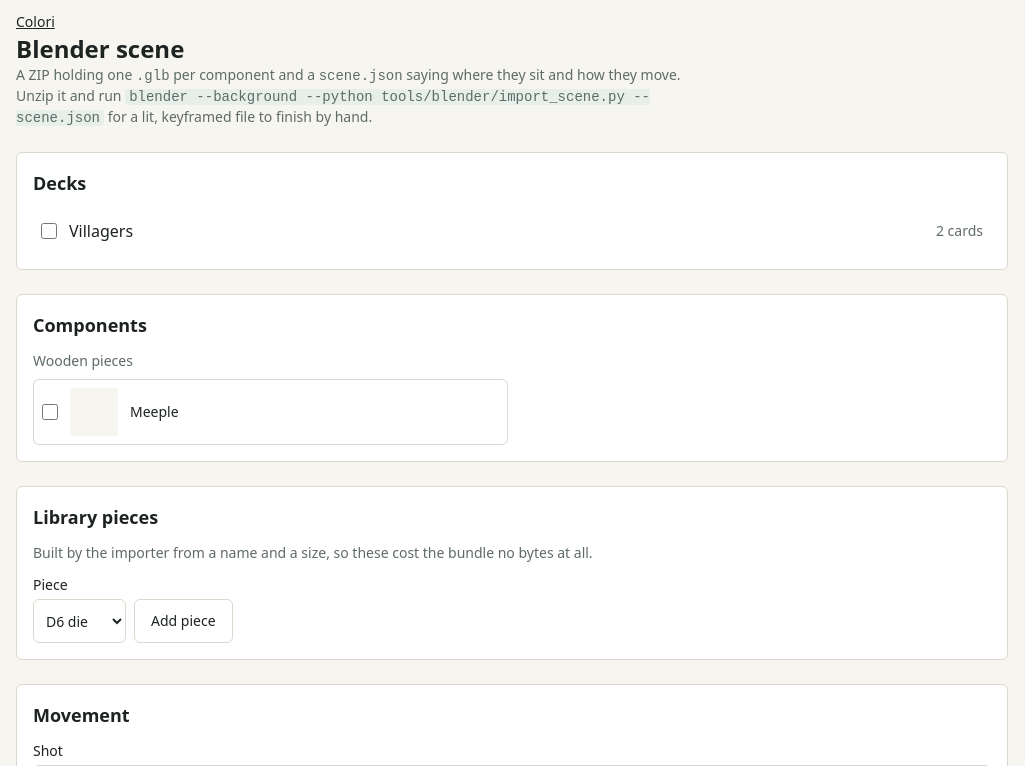
Test: Scene export screen › adds a library piece at its own default size
Step 1. Select "Meeple" in the dropdown labelled "Piece" → (80, 621), box [33,599,126,643]
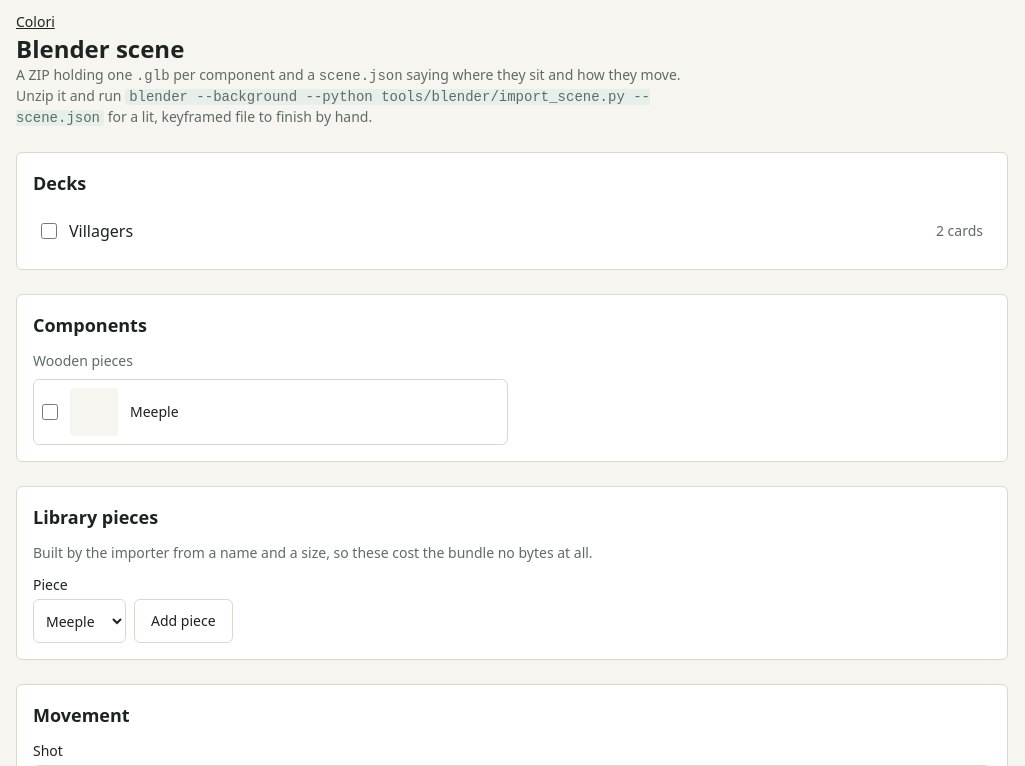
Step 2. Click the button "Add piece" → (183, 621), box [134,599,232,643]
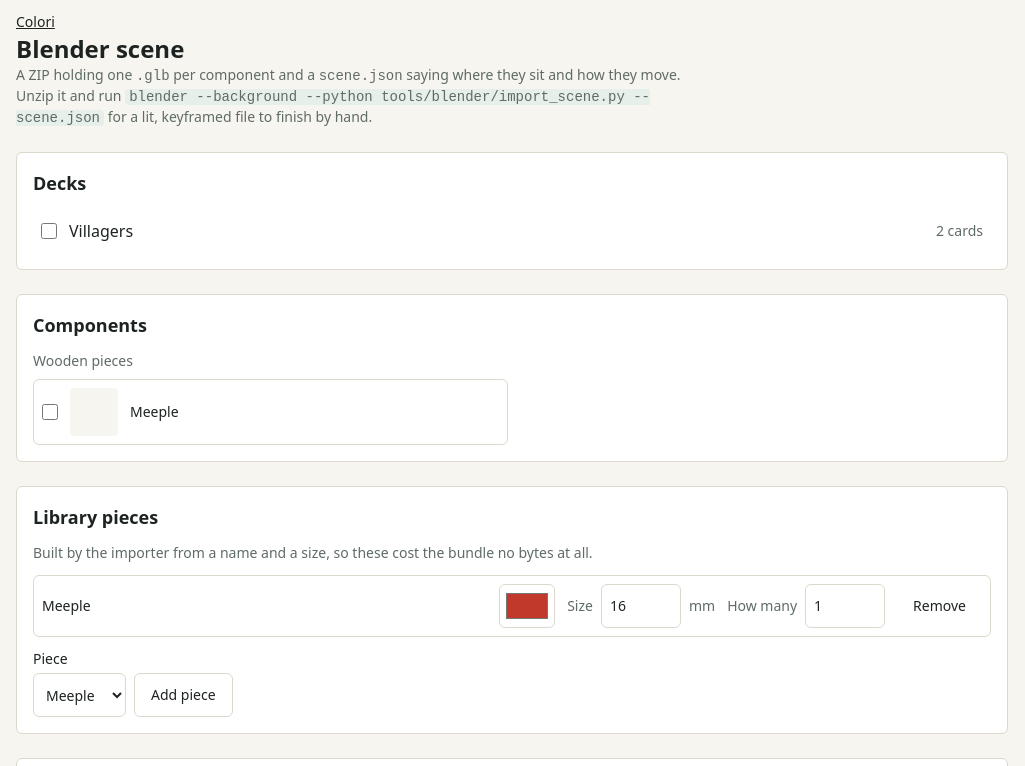
Expected: the number field named "Meeple size in millimetres" holds "16", [601,584,681,628]
